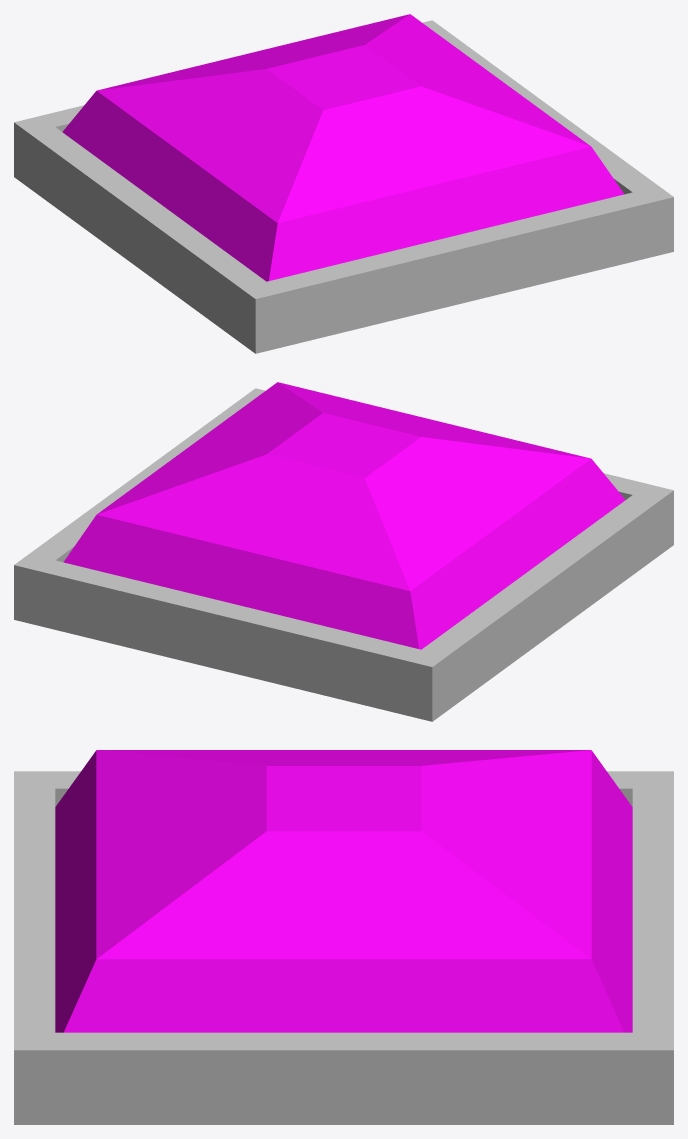
File: sandpit.obj
The picture shows the model from 3 angles, top to bottom: view 1: azimuth 30°, elevation 25°; view 2: azimuth 150°, elevation 25°; view 3: azimuth 270°, elevation 25°; orthographic projection. The views are drawn at different scales.
Parts seen in each view (by area): view 1: sandpit_back; view 2: sandpit_back; view 3: sandpit_back.
Boxes of the visible parts, x1=… form: sandpit_back: x1=14, y1=14, x2=673, y2=353; sandpit_back: x1=14, y1=382, x2=673, y2=721; sandpit_back: x1=14, y1=750, x2=673, y2=1124.
Size of the model in its own units: 2.56 by 0.8 by 2.56.
